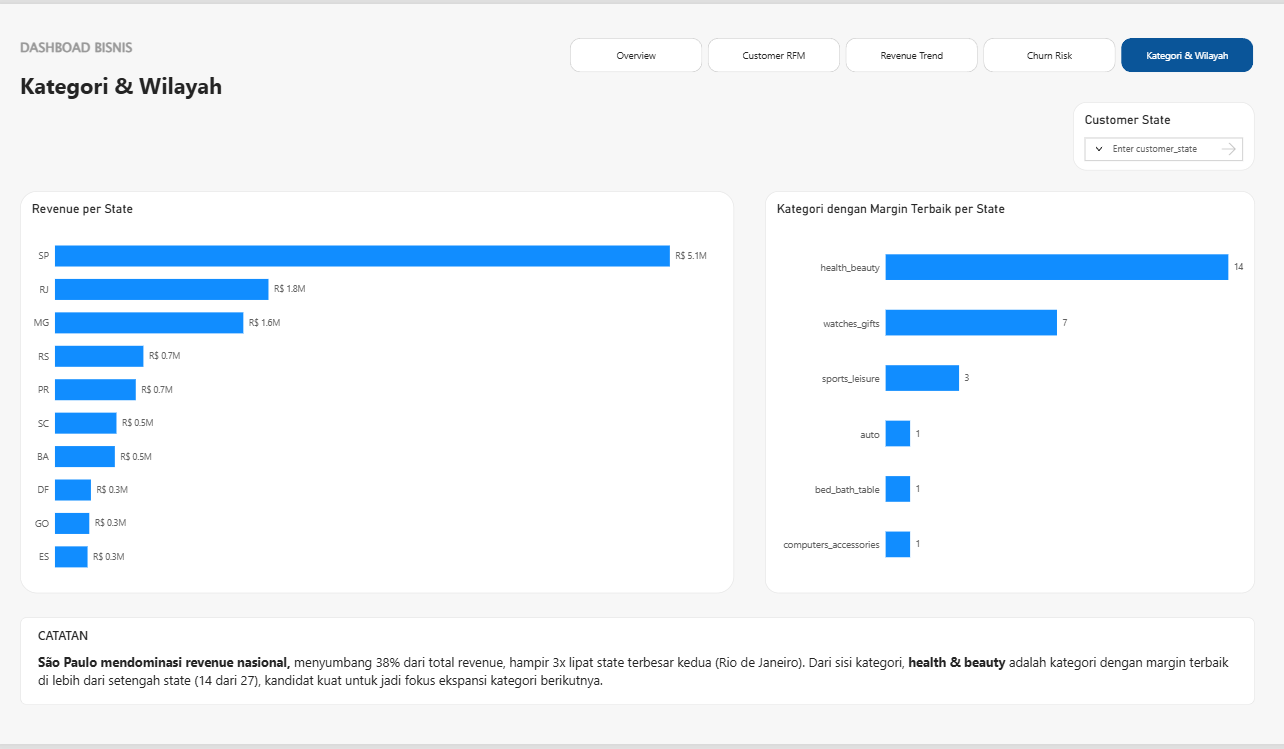

The page's visual inventory and layout, read from the dashboard file:
{"tool":"powerbi","page":{"name":"Kategori & Wilayah","canvas":[1920,1080],"ordinal":4},"visuals":[{"type":"clusteredBarChart","title":"Revenue per State","fields":{"Category":["RevenuePerState.customer_state"],"Y":["Sum(RevenuePerState.total_revenue)"]},"box":[48.3,273.3,1041.7,586.7],"z":0},{"type":"clusteredBarChart","title":"Kategori dengan Margin Terbaik per State","fields":{"Category":["CategoryPerState.category"],"Y":["CountNonNull(CategoryPerState.customer_state)"]},"box":[1135,273.3,715,586.7],"z":1000},{"type":"textSlicer","title":"Customer State","fields":{"Values":["RevenuePerState.customer_state"]},"box":[1585,143.3,265,100],"z":2000},{"type":"shape","box":[48.3,895,1801.7,128.3],"z":3000},{"type":"textbox","title":"CATATAN","box":[75,908.3,1748.3,98.3],"z":4000},{"type":"textbox","box":[48.3,50,303.3,93.3],"z":5000},{"type":"pageNavigator","box":[850.6,49.6,1000,50],"z":6000}]}

Visuals, with their boxes on the page's 1920x1080 design canvas (x1, y1, x2, y2). These are canvas units, not pixel positions in the 1284x749 screenshot, which may show the page scaled, cropped or inside an application window:
"Revenue per State" clusteredBarChart: bbox=(48, 273, 1090, 860)
"Kategori dengan Margin Terbaik per State" clusteredBarChart: bbox=(1135, 273, 1850, 860)
"Customer State" textSlicer: bbox=(1585, 143, 1850, 243)
shape: bbox=(48, 895, 1850, 1023)
"CATATAN" textbox: bbox=(75, 908, 1823, 1007)
textbox: bbox=(48, 50, 352, 143)
pageNavigator: bbox=(851, 50, 1851, 100)
